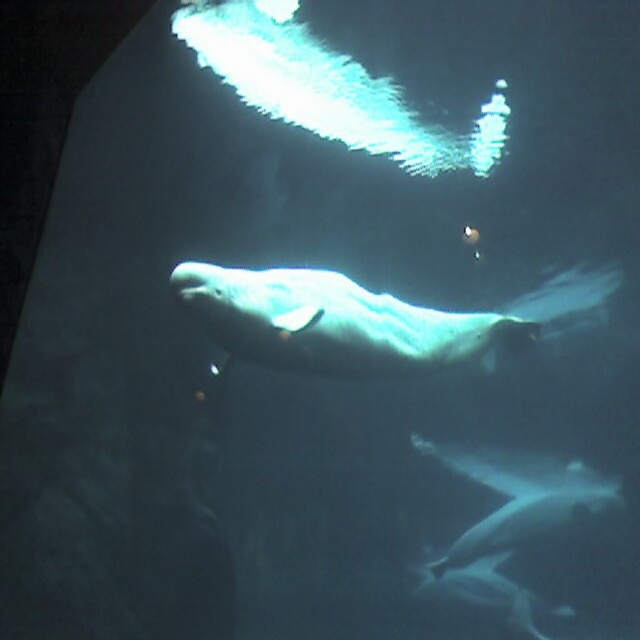Fish: (168, 261, 625, 375), (407, 433, 630, 640), (169, 259, 541, 373), (415, 432, 632, 567), (410, 565, 579, 640)
